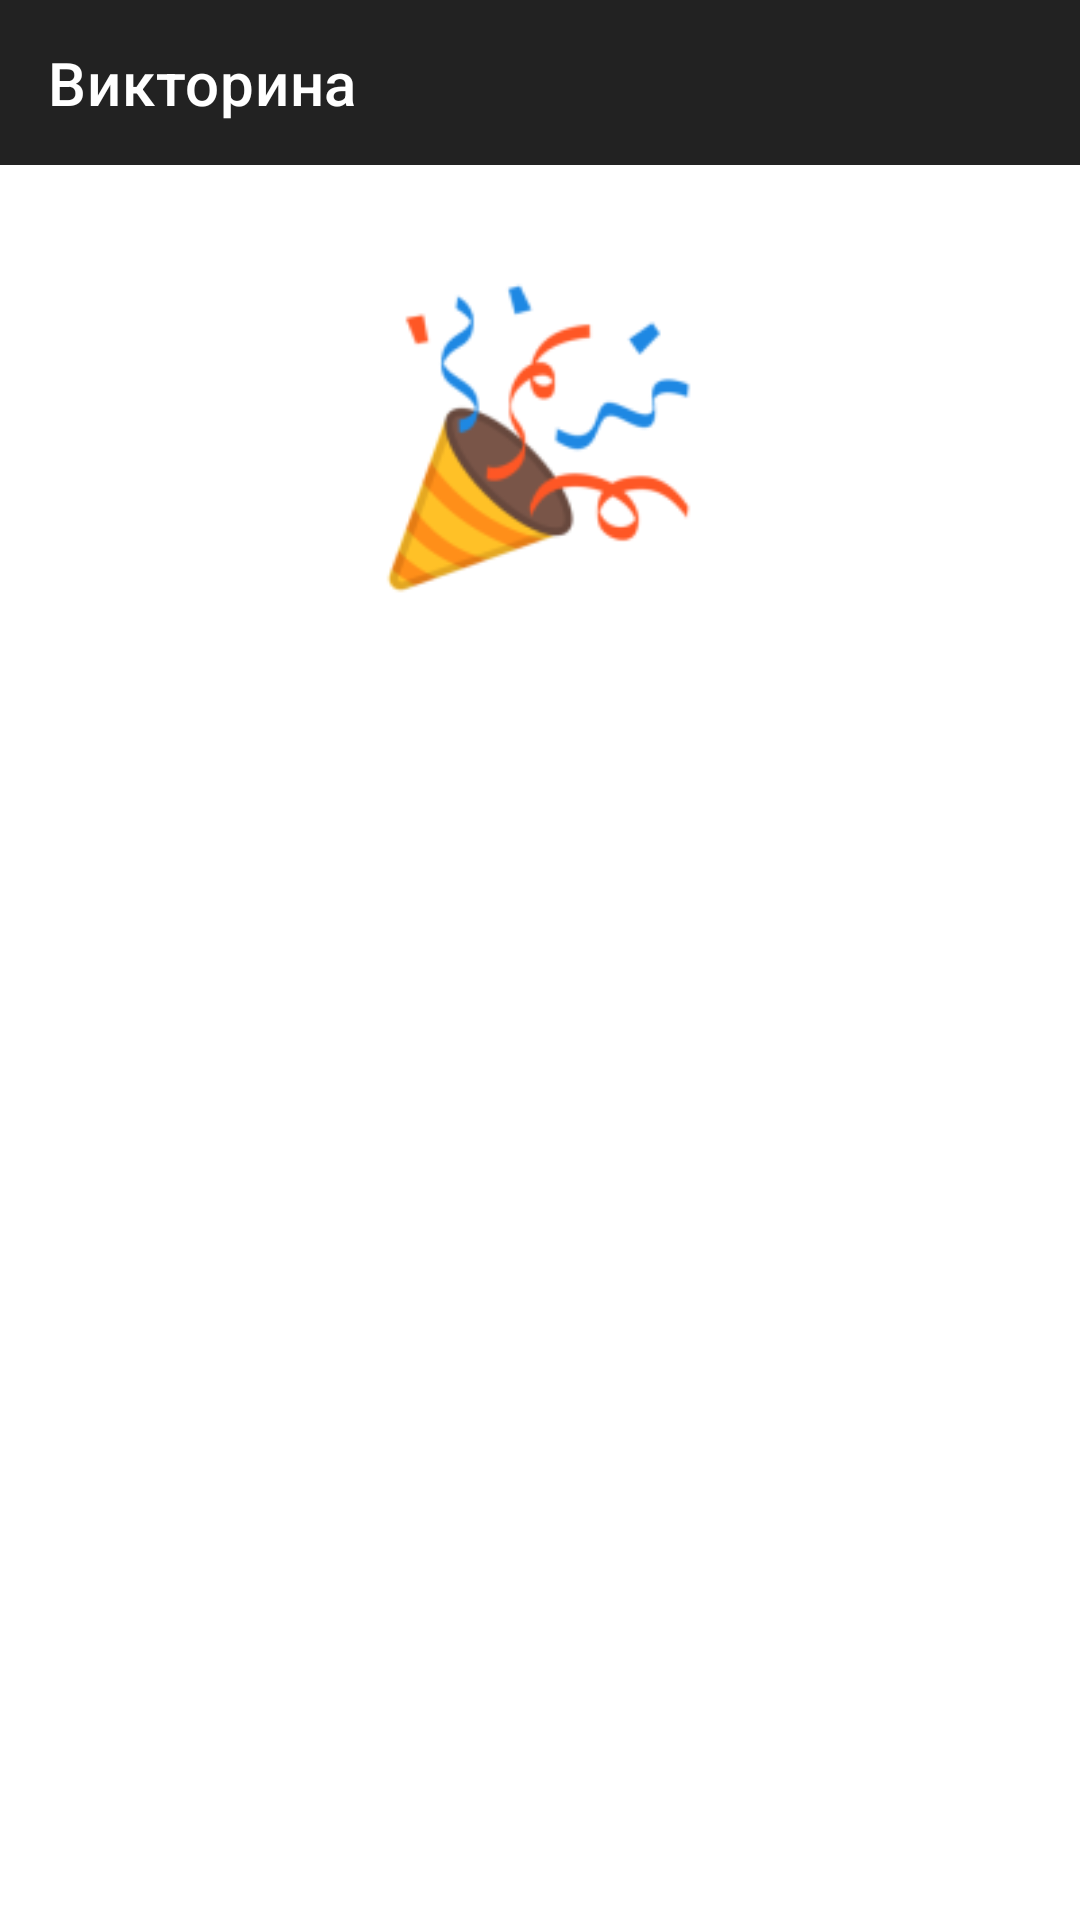

Point at icon controls on the screen. Image size 1080x1920, points as (x,y).
congratulation: (538,438)
